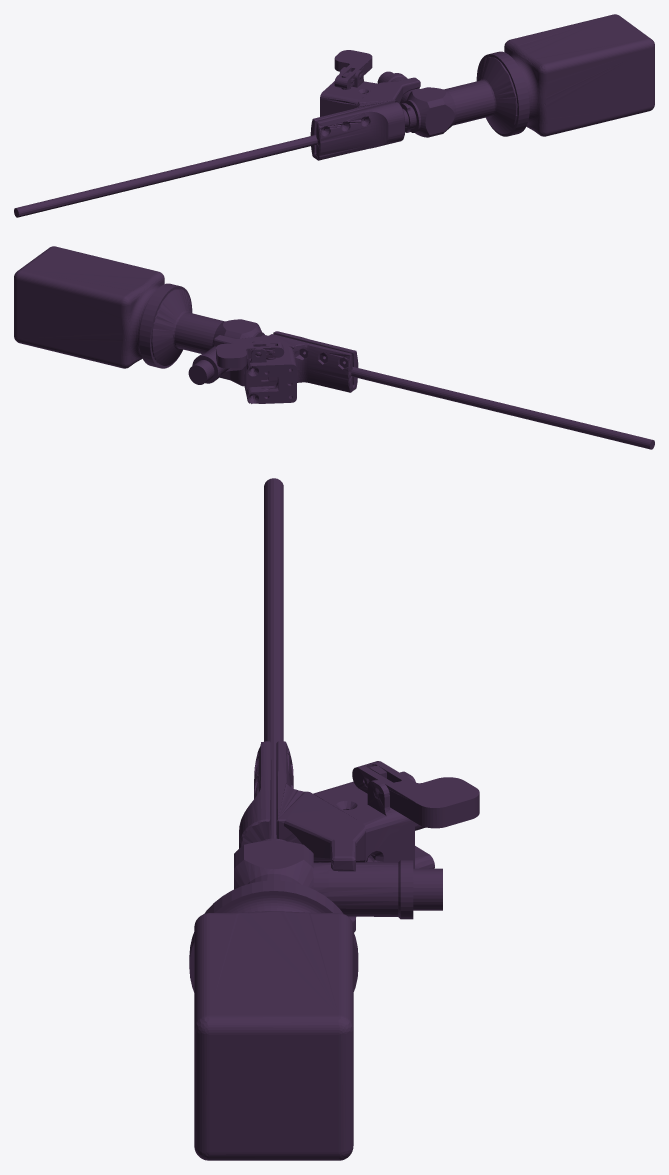
The model's file is Endoscope 35 degree in REMS dVRK.OBJ.
3 renders of one model, top to bottom at view 1: azimuth 30°, elevation 25°; view 2: azimuth 150°, elevation 25°; view 3: azimuth 270°, elevation 25°, orthographic. The views are drawn at different scales.
Visible parts, largest first — view 1: /ambf/env/Endoscope_35_degree_in_REMS; view 2: /ambf/env/Endoscope_35_degree_in_REMS; view 3: /ambf/env/Endoscope_35_degree_in_REMS.
Boxes of the visible parts, x1=… form: /ambf/env/Endoscope_35_degree_in_REMS: x1=14, y1=14, x2=654, y2=217; /ambf/env/Endoscope_35_degree_in_REMS: x1=14, y1=246, x2=654, y2=449; /ambf/env/Endoscope_35_degree_in_REMS: x1=189, y1=478, x2=479, y2=1160.
Size of the model in its own units: 0.2885 by 0.034 by 0.0584.
